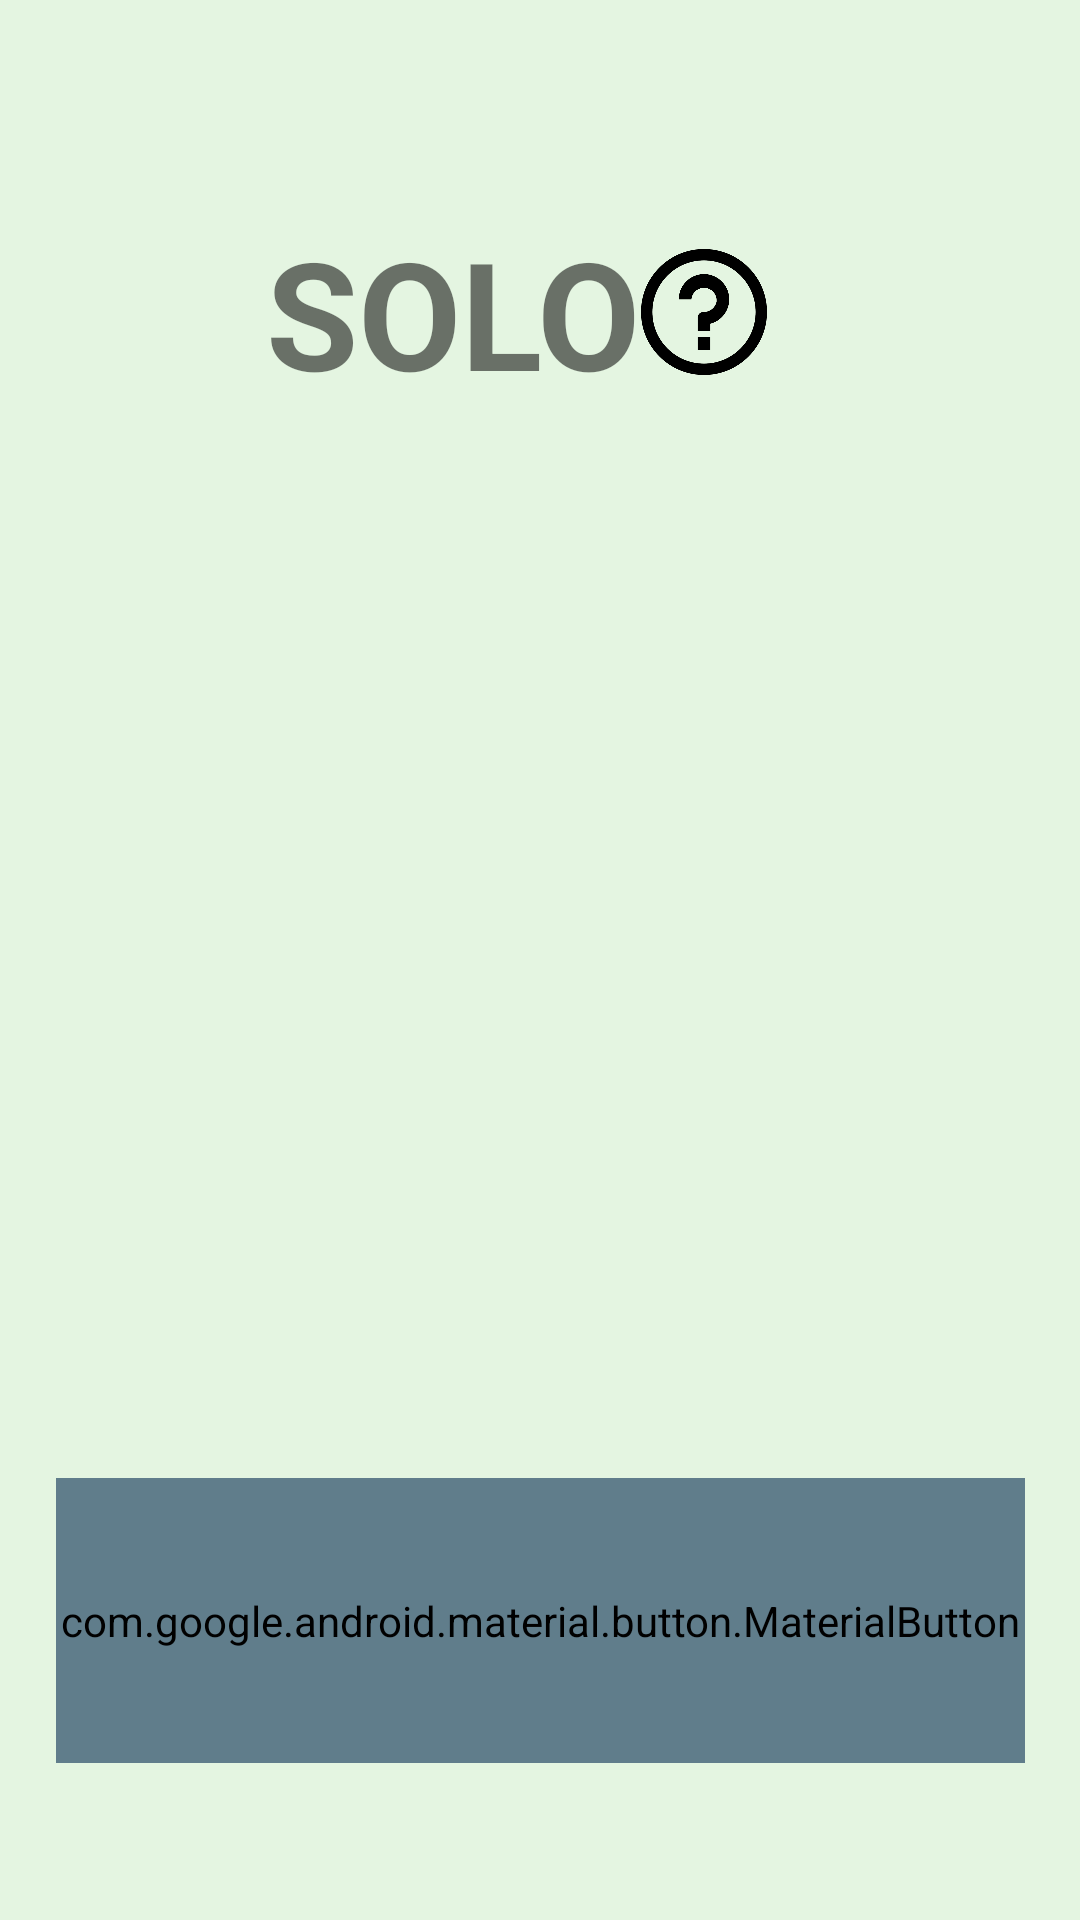

Named icons in this screenshot (1080x1920) and their bounding boxes, {"x1": x1, "y1": y1, "x2": x2, "y2": y2}:
help: {"x1": 641, "y1": 249, "x2": 767, "y2": 375}
